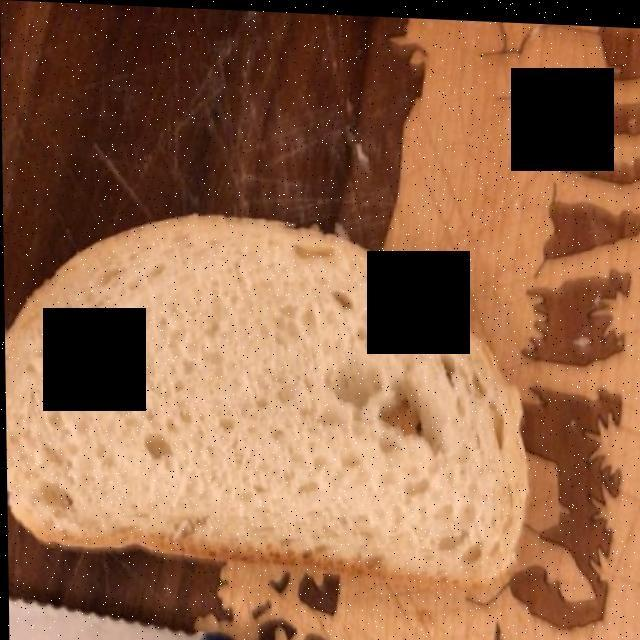bread: (13, 218, 517, 584)
